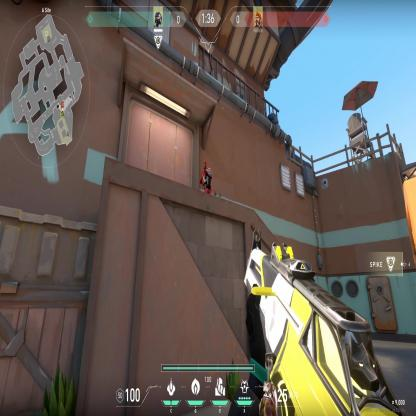enemy: (198, 158, 213, 196)
